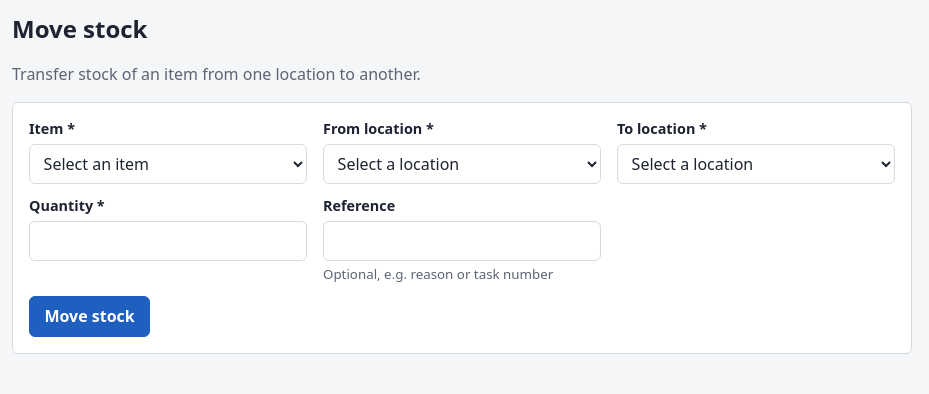
Test: MoveStockPage › requires a destination different from the source
Select "BOLT-10 — Bolt 10mm" in the dropdown labelled "Item *" at (168, 164), box left=29, top=144, right=307, bottom=184
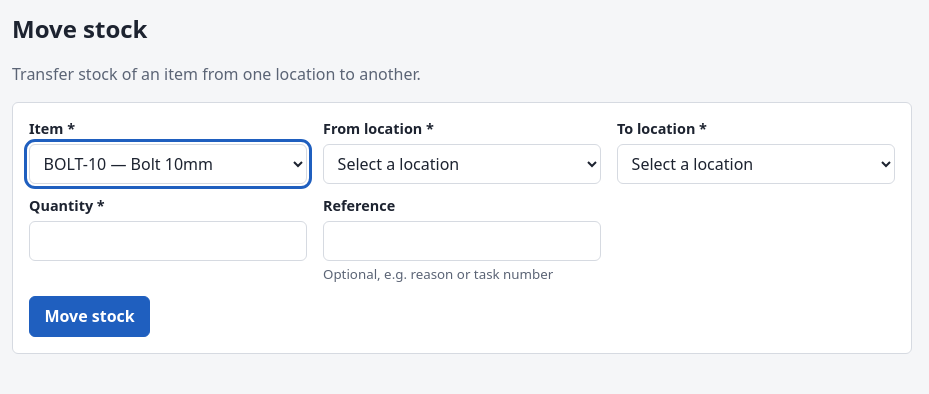
Select "A-01 — Aisle A bay 1" in the dropdown labelled "From location *" at (462, 164), box left=323, top=144, right=601, bottom=184
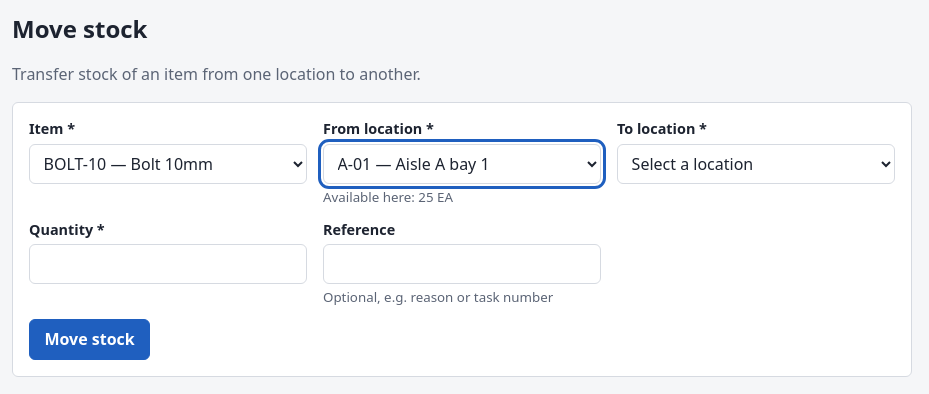
Select "A-01 — Aisle A bay 1" in the dropdown labelled "To location *" at (756, 164), box left=617, top=144, right=895, bottom=184
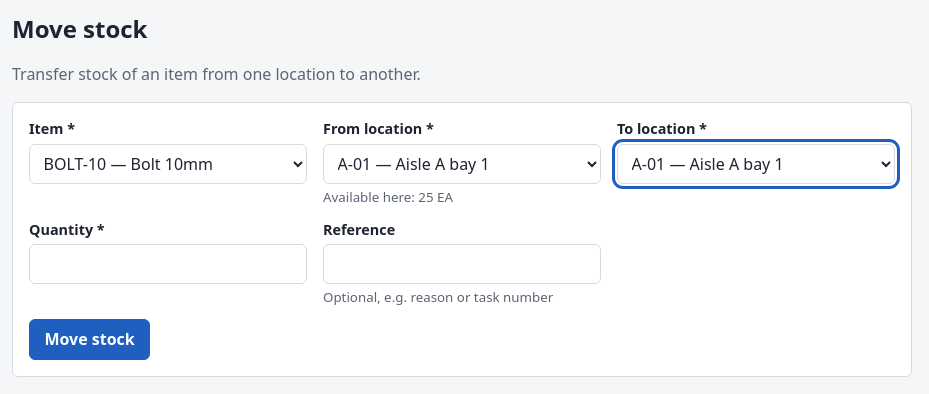
Type "4" into the field labelled "Quantity *" at (168, 264), box left=29, top=244, right=307, bottom=284
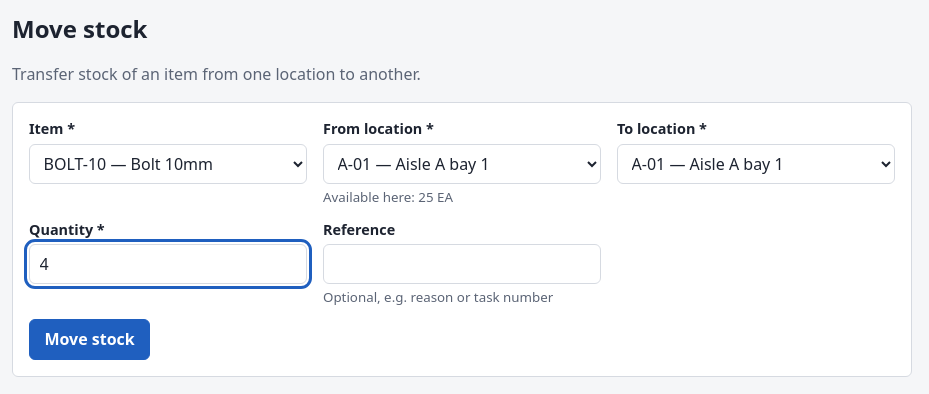
Click the button "Move stock" at (90, 340), box left=29, top=319, right=150, bottom=360
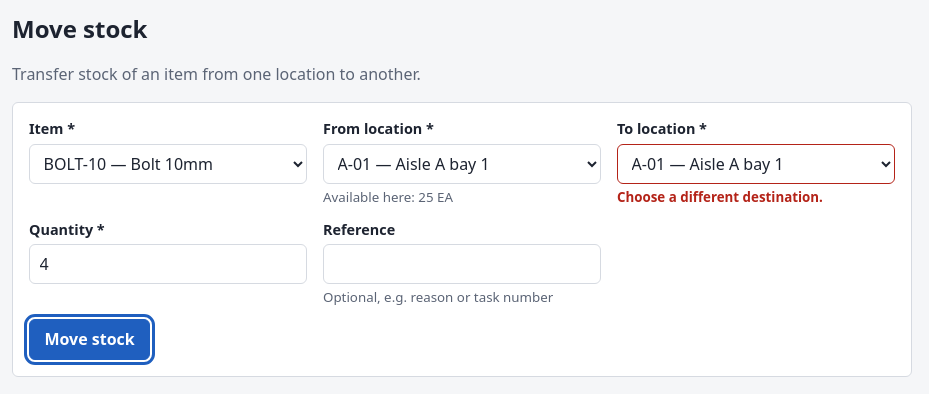
Now the text "Choose a different destination." is shown, box left=617, top=188, right=823, bottom=206
